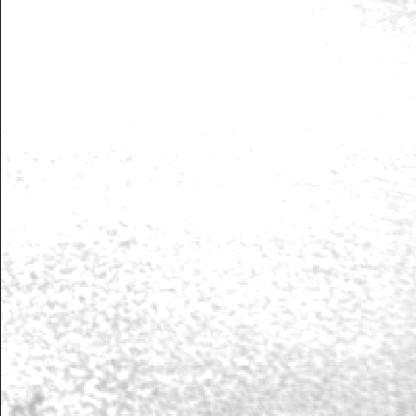pitted_surface: (2, 52, 397, 410)
